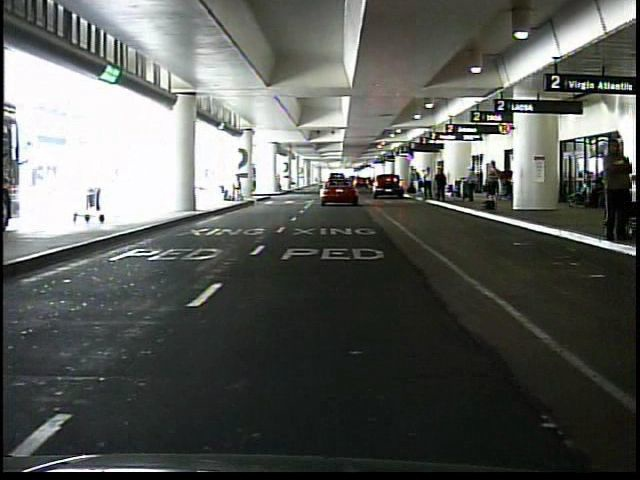person: (595, 137, 630, 247), (483, 161, 498, 210), (465, 166, 479, 204), (433, 168, 447, 203), (423, 165, 435, 200), (227, 173, 240, 201), (408, 167, 419, 198), (273, 173, 283, 190)
